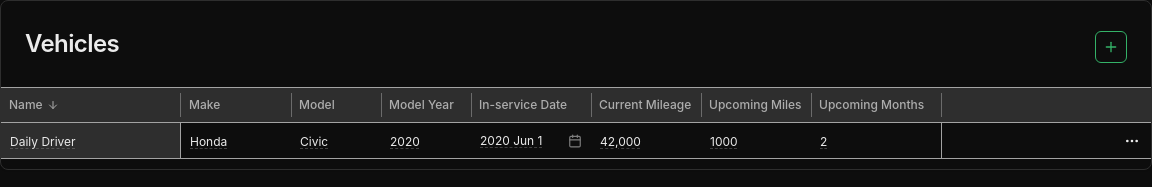
Test: GarageConfigView vehicles grid › restores the previous model year and shows the year bounds when an out-of-range value is committed
Later steps or results of the test are not shown.
Press the mouse on the 4th field at (426, 141), box x1=385 y1=127 x2=467 y2=155
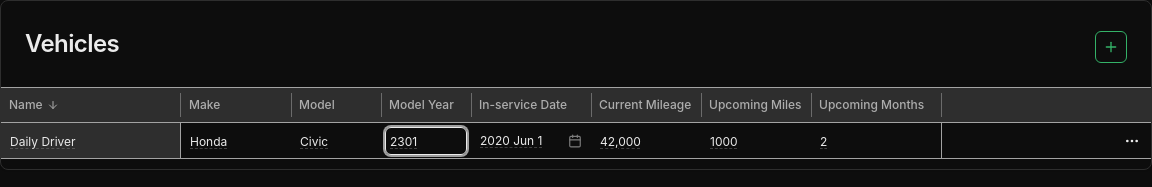
Expected: the number field has attribute data-grid-editing="true", x1=385 y1=127 x2=467 y2=155
